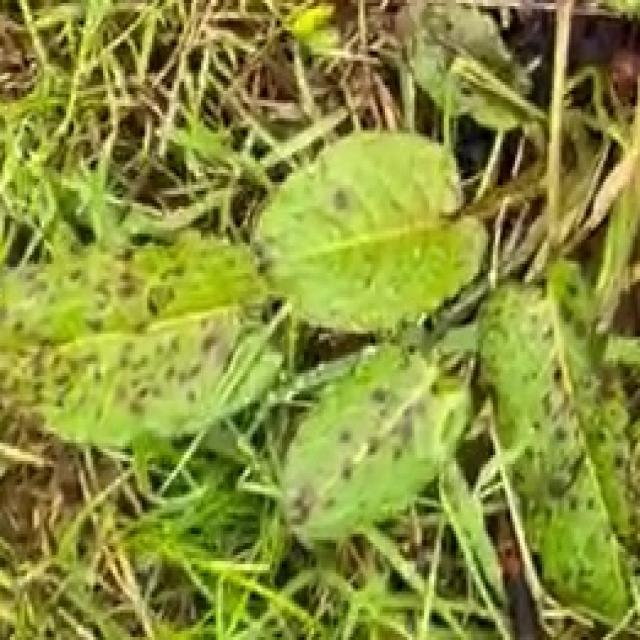organic waste: (39, 112, 640, 632)
